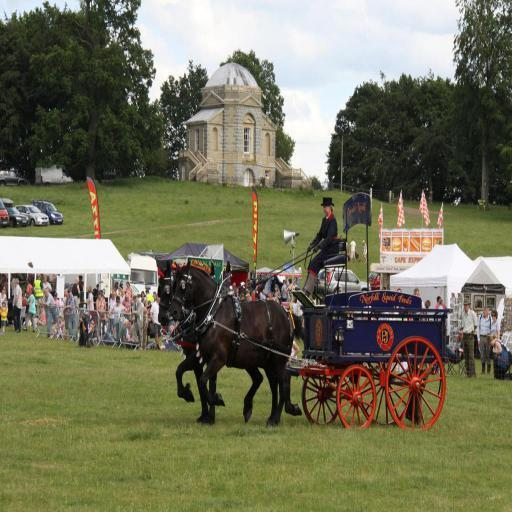horse: (168, 262, 304, 428), (156, 266, 279, 428)
